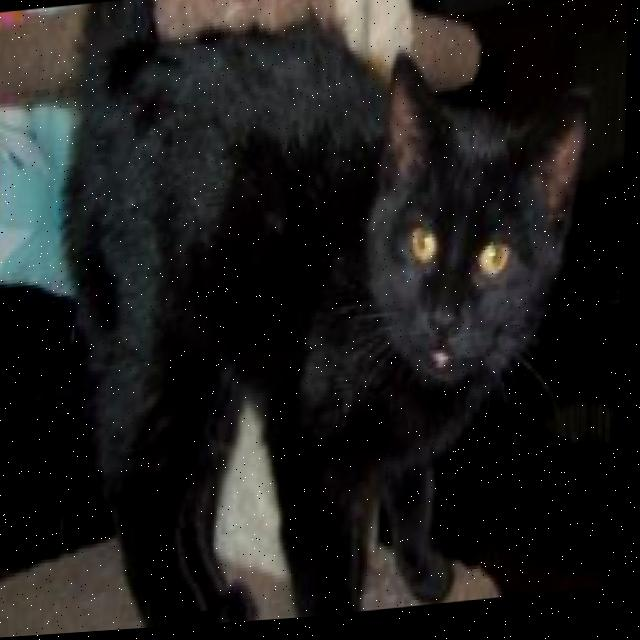American Bobtail: (30, 0, 622, 637)
